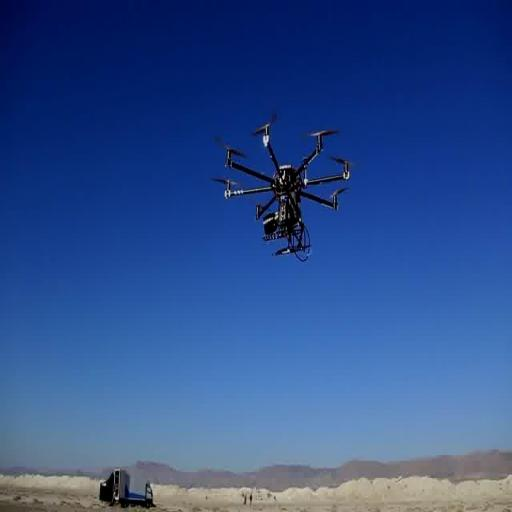drone: (216, 107, 352, 262)
